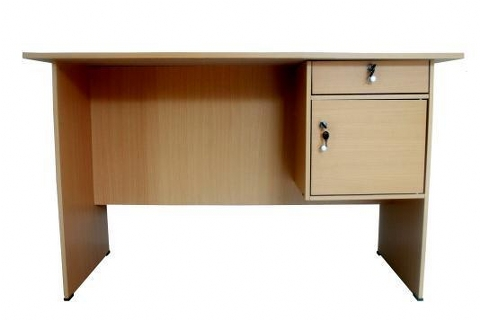meja: (21, 52, 465, 301)
